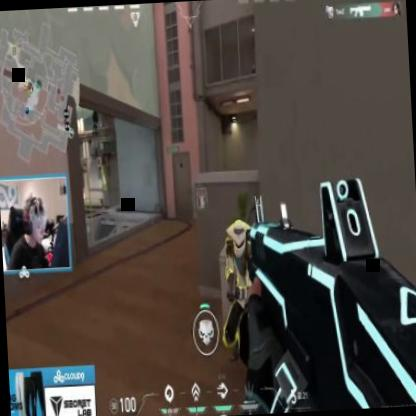enemy: (216, 216, 266, 370)
enemy_head: (231, 219, 246, 256)
